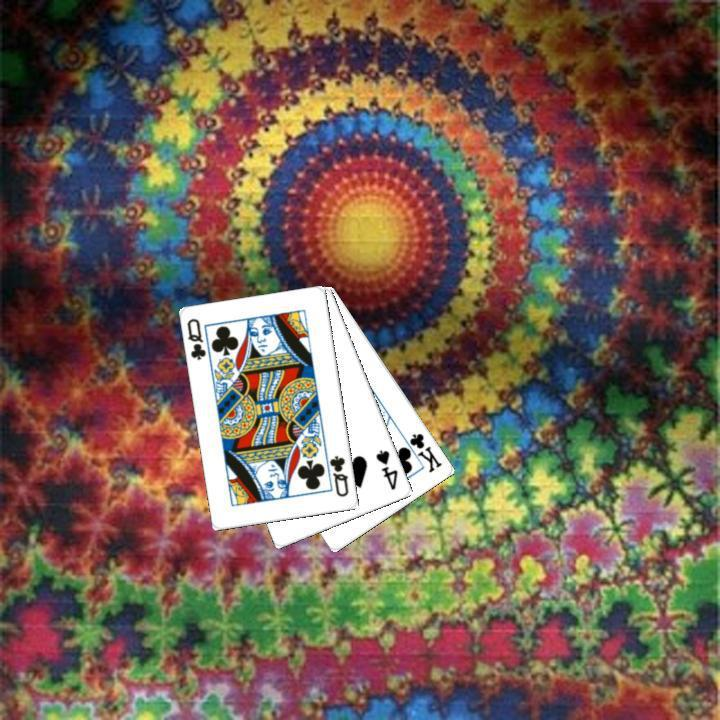4: (372, 446, 400, 492)
K: (398, 429, 444, 475)
Q: (326, 451, 351, 499), (183, 314, 208, 362)
